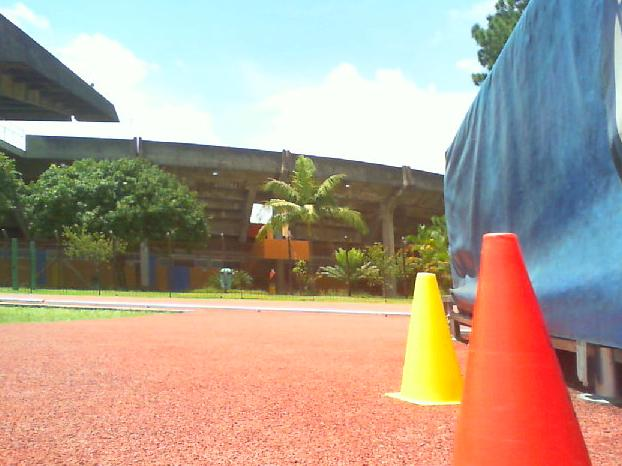0 cone: (450, 233, 595, 466), (385, 272, 463, 407)
